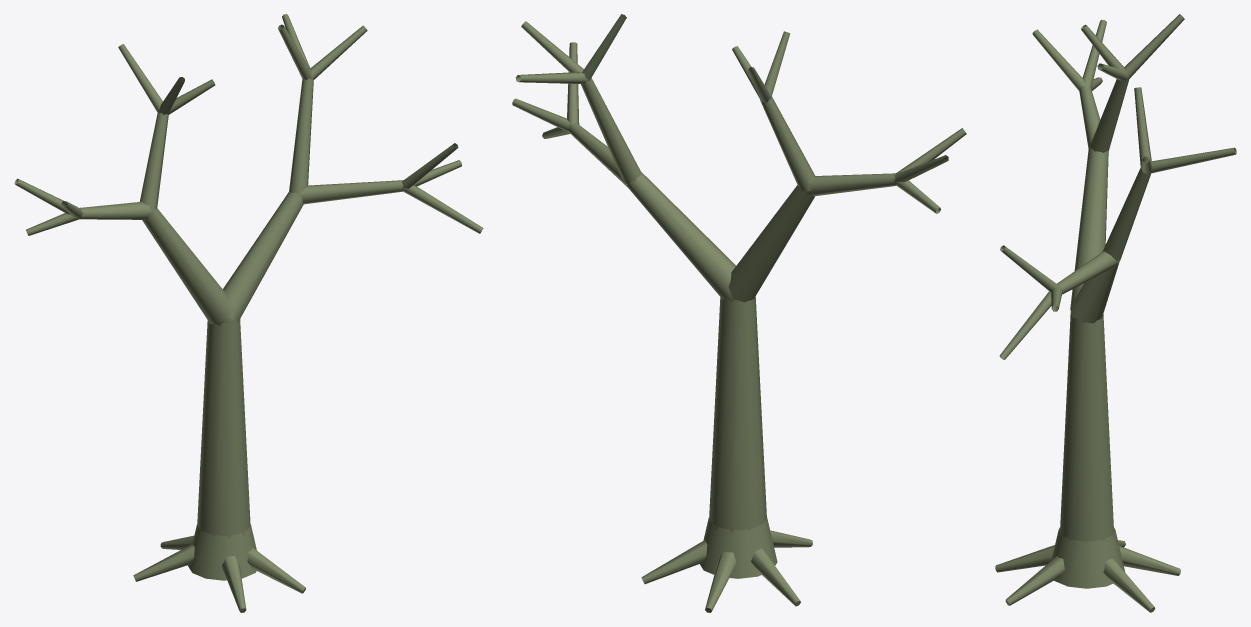
File: dead_tree.glb
3 views of the same model, side by side, from view 1: azimuth 30°, elevation 25°; view 2: azimuth 150°, elevation 25°; view 3: azimuth 270°, elevation 25° (orthographic). The views are drawn at different scales.
Visible parts, largest first — view 1: dead_tree; view 2: dead_tree; view 3: dead_tree.
Boxes of the visible parts, x1,y1,x2,y2 form: dead_tree: (14, 14, 483, 612); dead_tree: (512, 14, 966, 612); dead_tree: (995, 14, 1236, 612).
Bounding box in the file's own units: 5.43 × 6.29 × 2.55.
